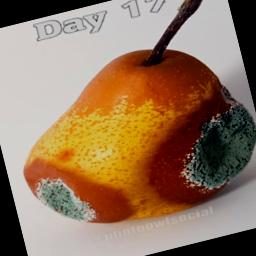Pear Rotten: (0, 0, 256, 242)
